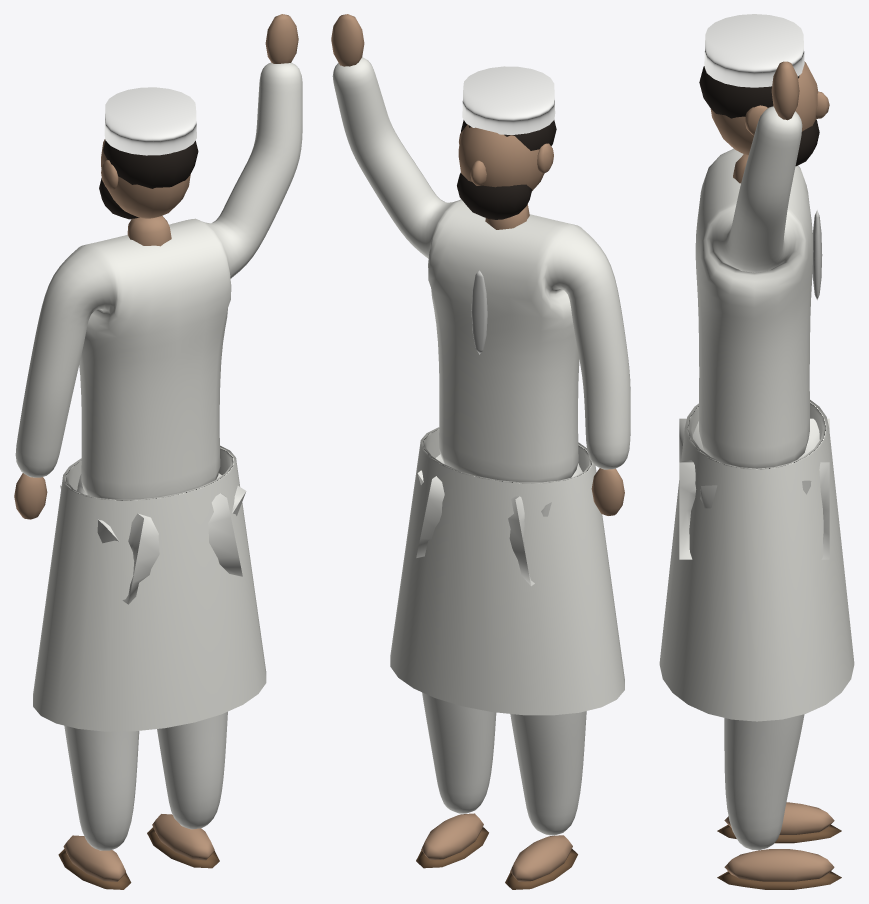
The model's file is person.glb.
The picture shows the model from 3 angles, left to right: view 1: azimuth 30°, elevation 25°; view 2: azimuth 150°, elevation 25°; view 3: azimuth 270°, elevation 25°; orthographic projection. The views are drawn at different scales.
Parts seen in each view (by area): view 1: Person; view 2: Person; view 3: Person.
Part boxes in pixels (box(x1,y1,x2,y2)): Person: box(14, 14, 302, 889); Person: box(331, 14, 630, 889); Person: box(659, 14, 854, 889).
Size of the model in its own units: 0.7078 by 1.93 by 0.3888.
